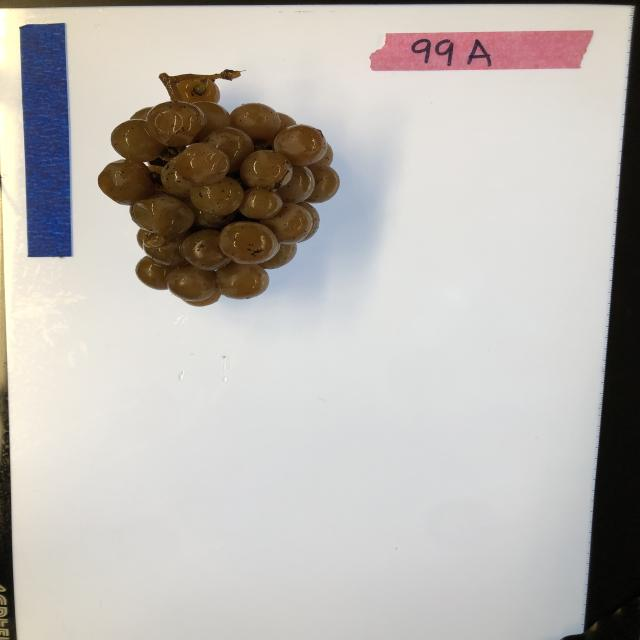grape_cluster: (95, 66, 341, 307)
index: (368, 30, 592, 73)
measure_label: (17, 21, 74, 258)
